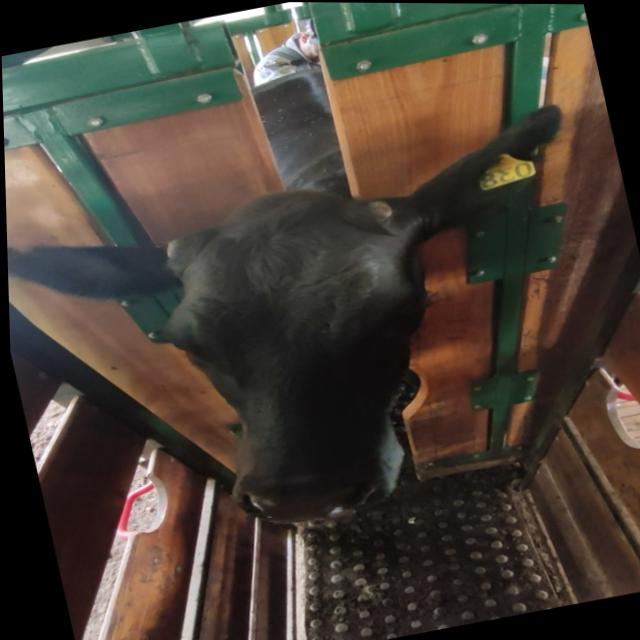cowFace: (138, 177, 465, 541)
